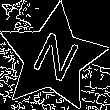N_SW: (24, 27, 81, 90)
